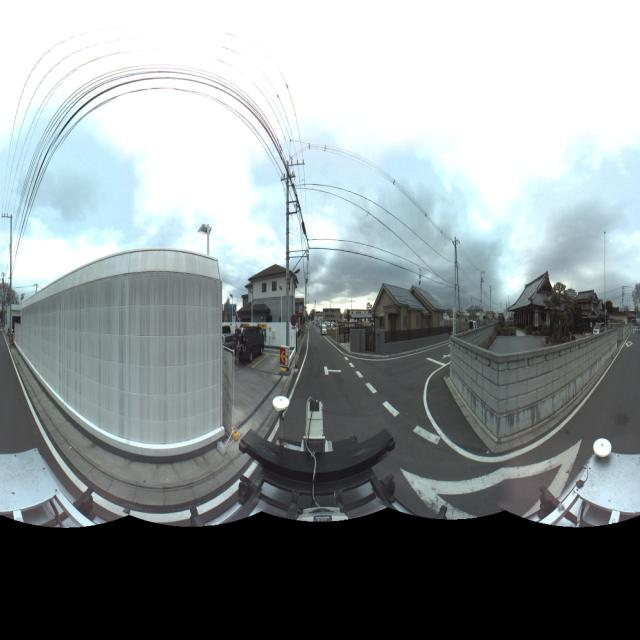b_1: (369, 273, 446, 355), (245, 255, 304, 341)
b_2: (510, 257, 605, 348)
